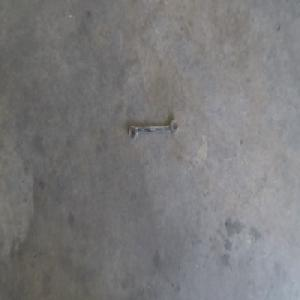Wrench: (128, 118, 180, 141)
